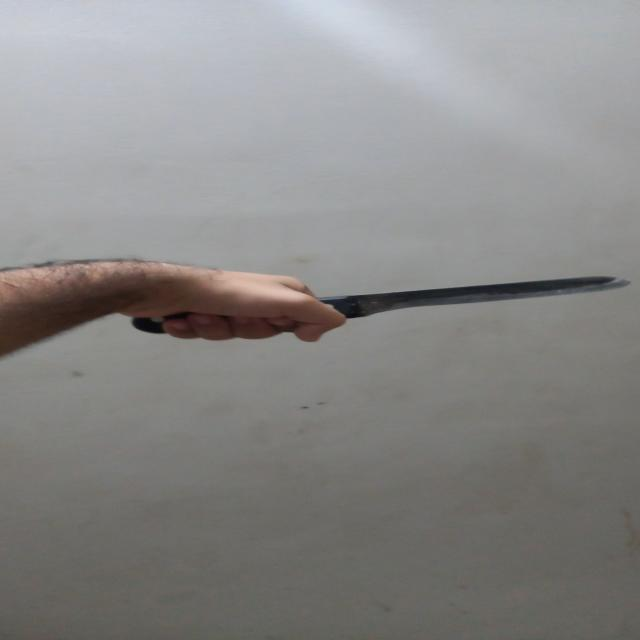Knife: (134, 265, 630, 342)
